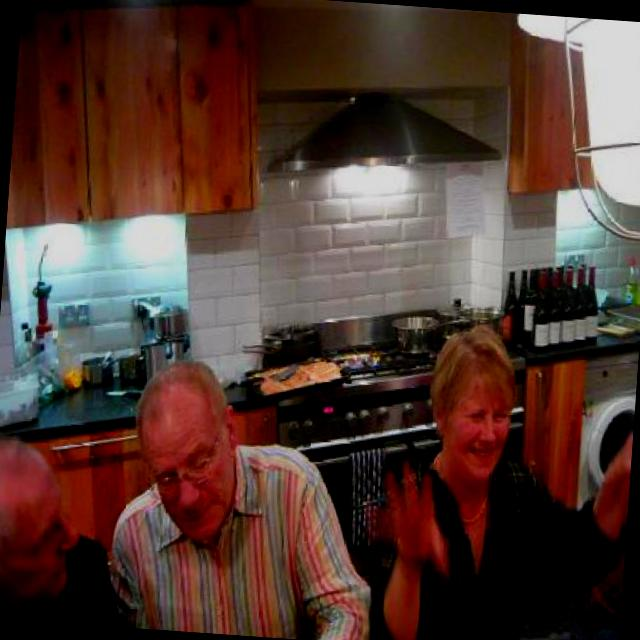Person: (364, 312, 640, 640), (110, 349, 390, 634), (0, 428, 133, 617)
